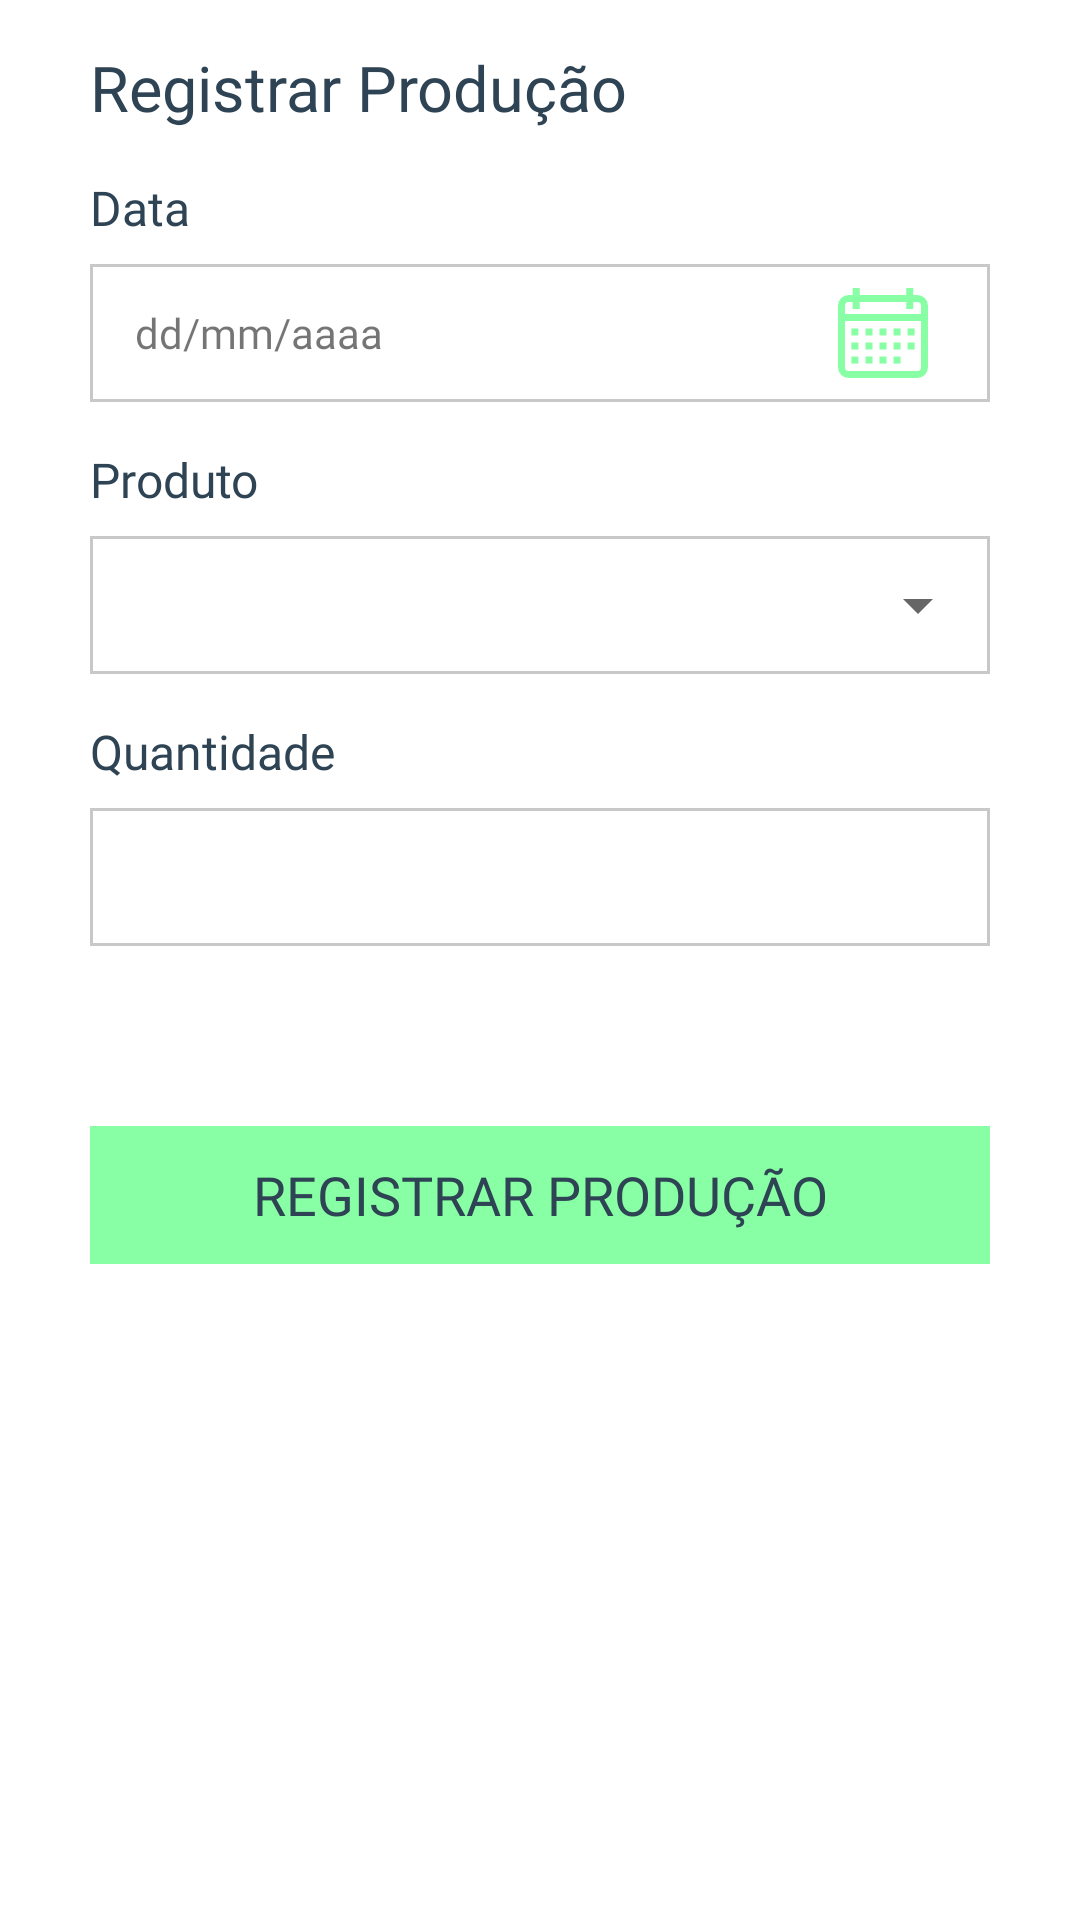

Icons on this 1080w x 1920h Android screen, each with the point to tap as (x,y):
calendar: (883,333)
